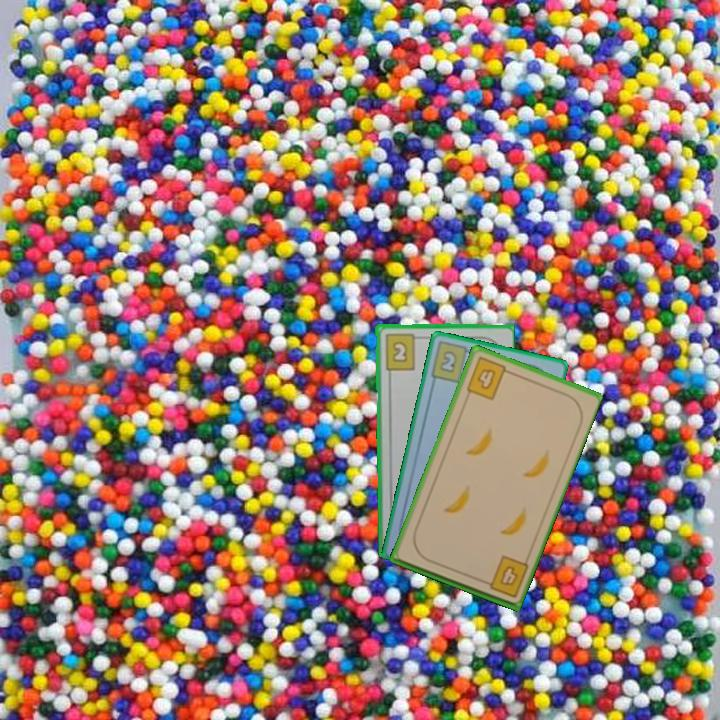2b: (427, 338, 478, 386), (381, 330, 423, 372)
4b: (462, 353, 514, 403), (478, 552, 531, 601)
